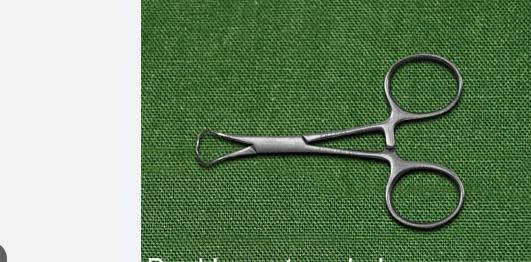Backhaus: (191, 50, 469, 233)
